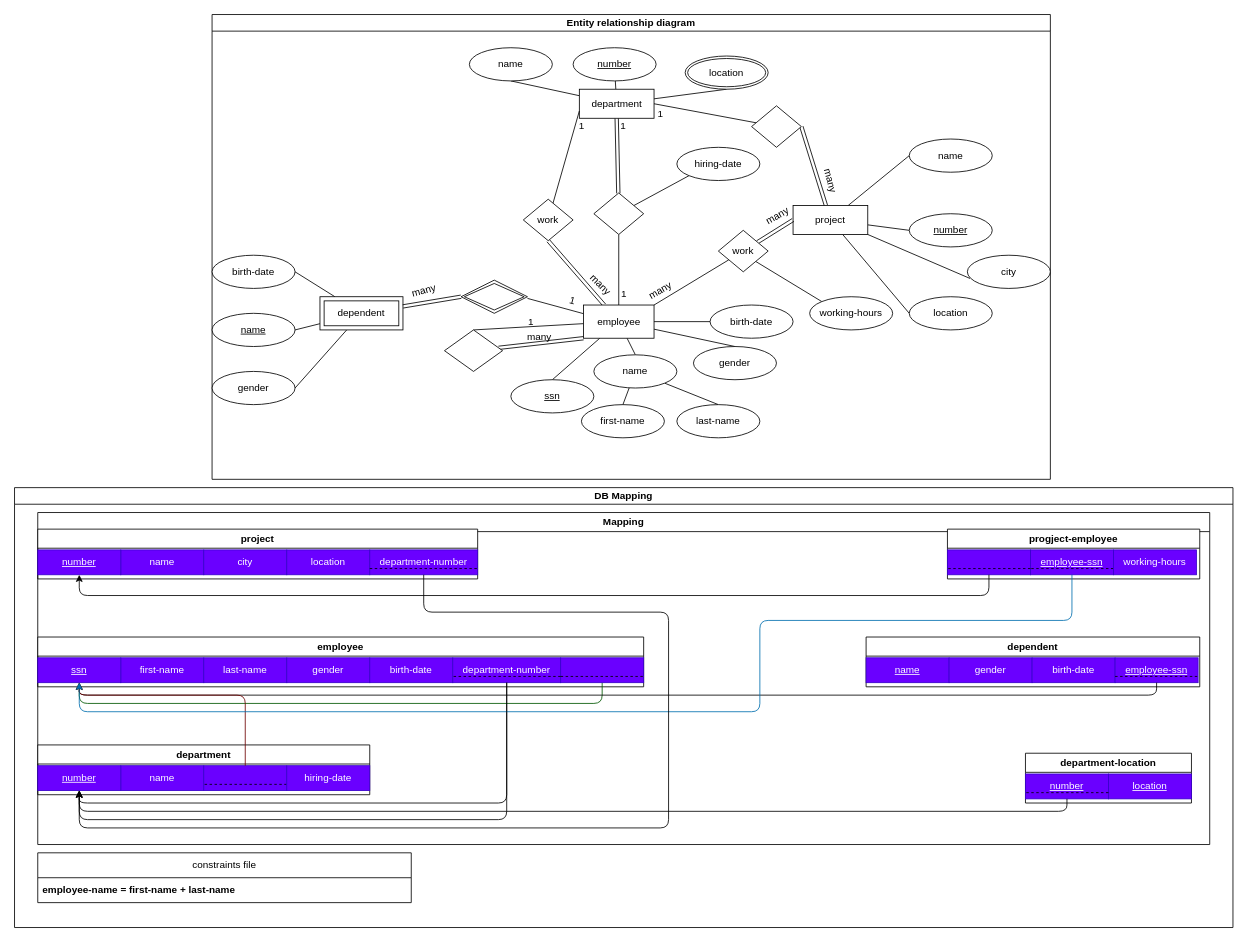
Some shapes in this 1247 by 942 pixel diagram are drawn without their labels. The shapes that lost their labels are listed below. From the top down, each one's centre as x and y in pixels, then its label:
At (776,126): "assigned".
At (618,213): "manage".
At (493,296): "has".
At (473,350): "supervise".
At (988,562): "project-number".
At (602,670): "supervisor-ssn".
At (245,778): "manager-ssn".
